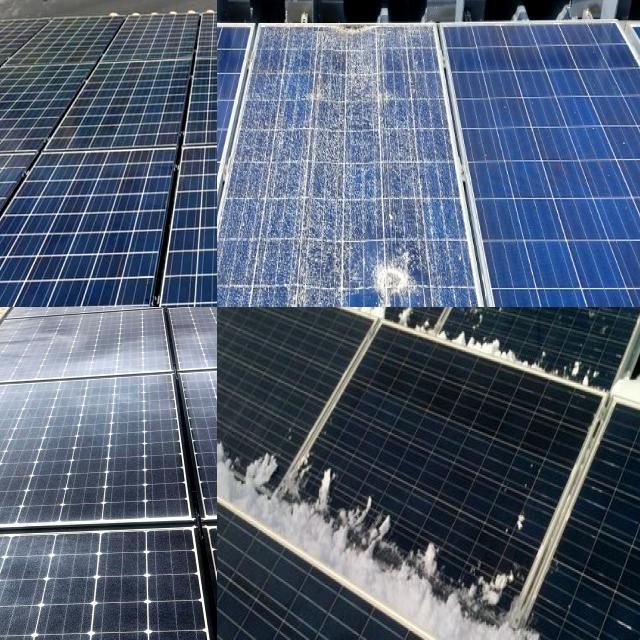crack: (42, 149, 158, 263), (80, 105, 176, 146), (0, 77, 53, 144), (0, 175, 36, 240), (162, 250, 208, 282), (160, 274, 199, 305), (192, 93, 217, 137), (199, 172, 217, 232), (193, 266, 217, 307), (196, 14, 217, 55), (194, 246, 217, 278)
hotspot: (366, 235, 435, 307)
panel: (283, 450, 529, 640), (457, 315, 622, 397), (217, 370, 283, 542), (323, 307, 452, 340), (217, 307, 308, 342)
